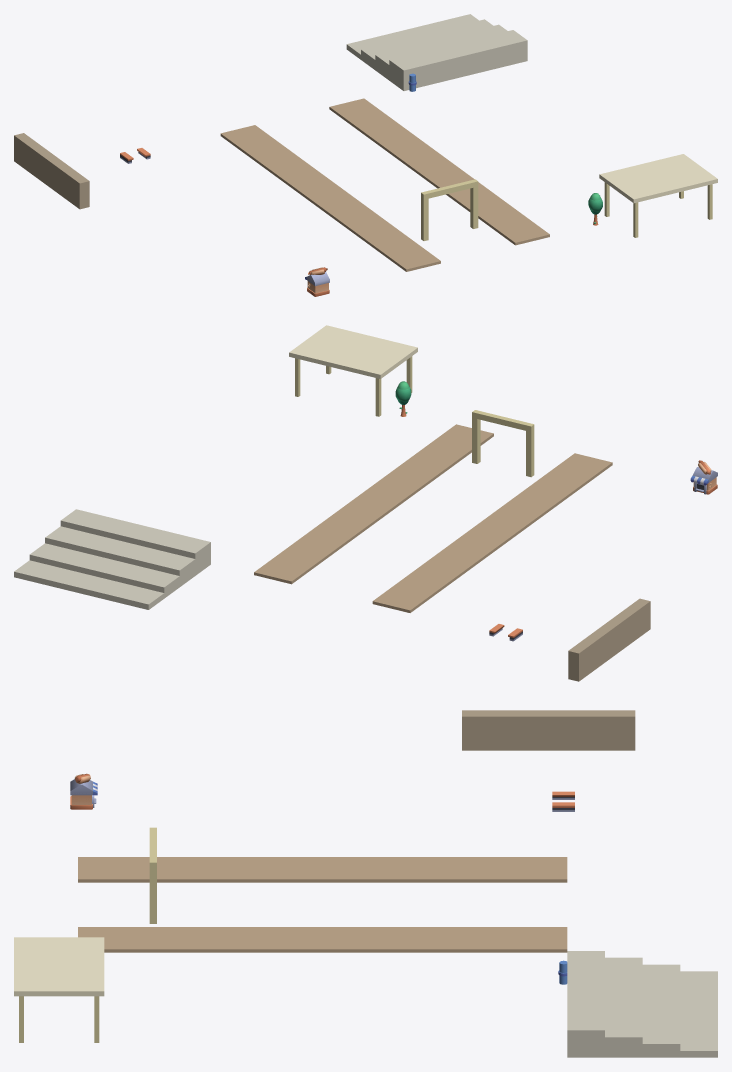
The model's file is gardens-6-2.glb.
3 views of the same model, one above another, from view 1: azimuth 30°, elevation 25°; view 2: azimuth 150°, elevation 25°; view 3: azimuth 270°, elevation 25° (orthographic). The views are drawn at different scales.
Parts seen in each view (by area): view 1: gardens-6-2; view 2: gardens-6-2; view 3: gardens-6-2.
Part boxes in pixels (x1,y1,x2,y2): gardens-6-2: [14, 14, 717, 296]; gardens-6-2: [14, 325, 717, 681]; gardens-6-2: [14, 710, 717, 1057].
Bounding box in the file's own units: 197 × 18 × 187.
9 materials, 4 textured.
